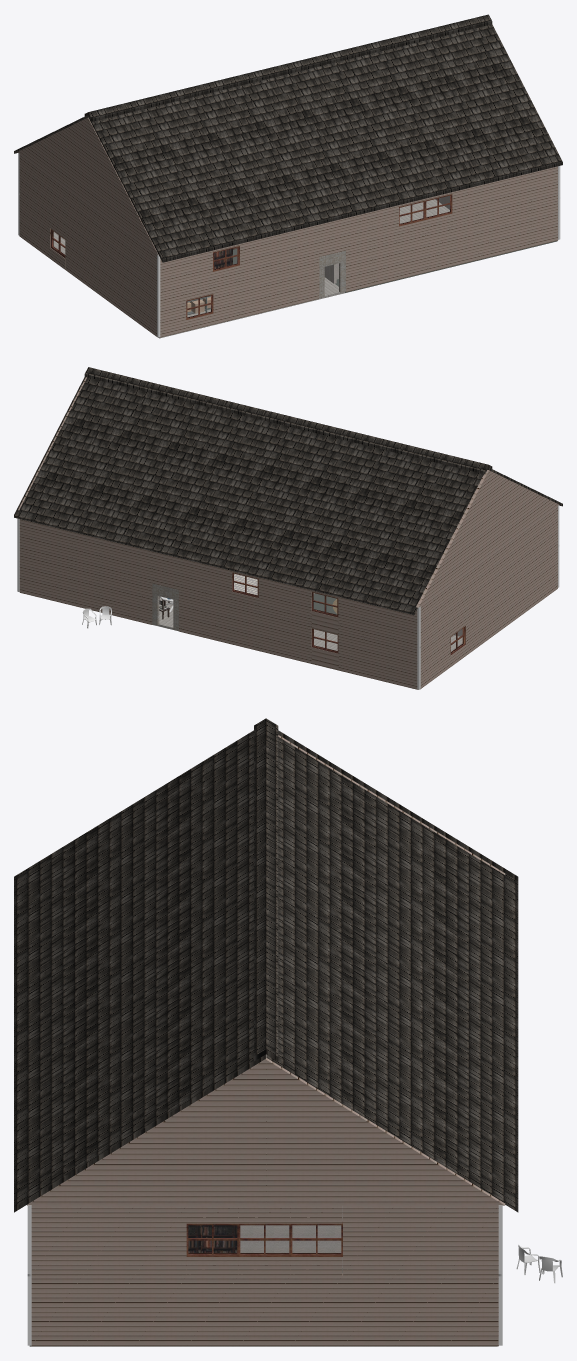
File: roof.glb
The picture shows the model from 3 angles, top to bottom: view 1: azimuth 30°, elevation 25°; view 2: azimuth 150°, elevation 25°; view 3: azimuth 270°, elevation 25°; orthographic projection. The views are drawn at different scales.
Parts seen in each view (by area): view 1: outerwalls-androof-col.005, outerwalls-androof-col.006, outerwalls-androof-col.007, outerwalls-androof-col.003, outerwalls-androof-col.095, outerwalls-androof-col.106, outerwalls-androof-col.097, outerwalls-androof-col.065, outerwalls-androof-col.101, outerwalls-androof-col.107, outerwalls-androof-col.098, outerwalls-androof-col.104 (+36 smaller); view 2: outerwalls-androof-col.009, outerwalls-androof-col.006, outerwalls-androof-col.003, outerwalls-androof-col.007, outerwalls-androof-col.071, outerwalls-androof-col.063, outerwalls-androof-col.073, outerwalls-androof-col.074, outerwalls-androof-col.064, outerwalls-androof-col.067, outerwalls-androof-col.069, outerwalls-androof-col.066 (+39 smaller); view 3: outerwalls-androof-col.005, outerwalls-androof-col.009, outerwalls-androof-col.008, outerwalls-androof-col.004, outerwalls-androof-col.006, outerwalls-androof-col.024, outerwalls-androof-col.021, outerwalls-androof-col.022, outerwalls-androof-col.023, outerwalls-androof-col.025, outerwalls-androof-col.026, outerwalls-androof-col.027 (+16 smaller).
Part boxes in pixels (x1,y1,x2,y2): outerwalls-androof-col.005: (88, 24, 562, 262); outerwalls-androof-col.006: (84, 14, 492, 121); outerwalls-androof-col.007: (88, 117, 158, 255); outerwalls-androof-col.003: (18, 117, 87, 203); outerwalls-androof-col.095: (292, 257, 319, 304); outerwalls-androof-col.106: (478, 212, 505, 259); outerwalls-androof-col.097: (239, 270, 266, 317); outerwalls-androof-col.065: (266, 263, 292, 311); outerwalls-androof-col.101: (346, 244, 372, 291); outerwalls-androof-col.107: (505, 205, 531, 253); outerwalls-androof-col.098: (213, 276, 239, 324); outerwalls-androof-col.104: (425, 225, 451, 272); outerwalls-androof-col.009: (14, 377, 488, 615); outerwalls-androof-col.006: (84, 367, 492, 474); outerwalls-androof-col.003: (416, 470, 488, 607); outerwalls-androof-col.007: (489, 470, 558, 555); outerwalls-androof-col.071: (125, 577, 152, 624); outerwalls-androof-col.063: (364, 635, 391, 683); outerwalls-androof-col.073: (72, 564, 99, 611); outerwalls-androof-col.074: (46, 557, 72, 605); outerwalls-androof-col.064: (338, 629, 364, 676); outerwalls-androof-col.067: (258, 609, 284, 657); outerwalls-androof-col.069: (205, 596, 231, 644); outerwalls-androof-col.066: (285, 616, 311, 663); outerwalls-androof-col.005: (14, 730, 265, 1212); outerwalls-androof-col.009: (266, 730, 518, 1212); outerwalls-androof-col.008: (266, 1057, 505, 1205); outerwalls-androof-col.004: (27, 1059, 266, 1205); outerwalls-androof-col.006: (254, 718, 278, 1061); outerwalls-androof-col.024: (291, 1273, 342, 1346); outerwalls-androof-col.021: (447, 1275, 498, 1346); outerwalls-androof-col.022: (395, 1275, 446, 1346); outerwalls-androof-col.023: (343, 1275, 394, 1346); outerwalls-androof-col.025: (239, 1275, 290, 1346); outerwalls-androof-col.026: (135, 1275, 186, 1346); outerwalls-androof-col.027: (83, 1275, 134, 1346).
Size of what is drawn, in the model's own units: 30.28 by 13.47 by 21.12.
Materials: 48 (33 with a texture image).
